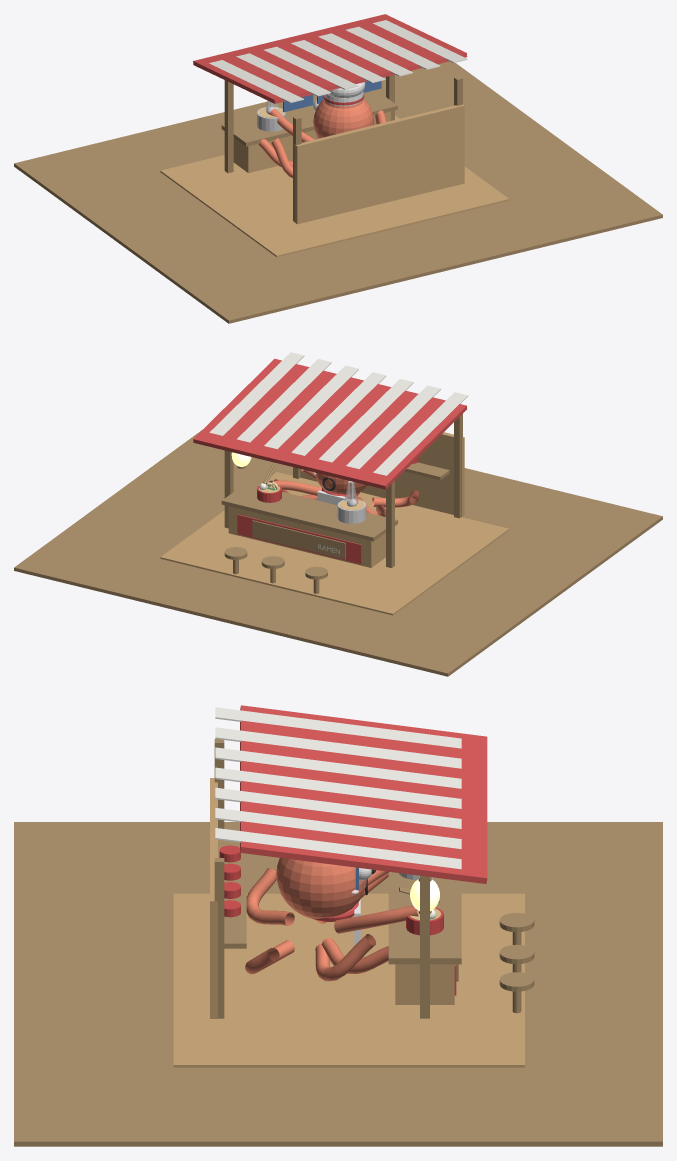
The model's file is octopus-ramen-shop.glb.
3 views of the same model, one above another, from view 1: azimuth 30°, elevation 25°; view 2: azimuth 150°, elevation 25°; view 3: azimuth 270°, elevation 25° (orthographic). The views are drawn at different scales.
Parts seen in each view (by area): view 1: Ground, BackWall, FloorMat, Roof, CounterTop, Head, Counter, PostL, Stripe2, Stripe3, Stripe5, Stripe0 (+3 smaller); view 2: Ground, FloorMat, Roof, CounterTop, BackWall, Counter, SignBoard, Stripe6, Stripe3, Stripe4, Stripe2, Stripe1 (+8 smaller); view 3: Ground, FloorMat, Roof, CounterTop, Head, Stripe5, Stripe6, Stripe3, Stripe4, Stripe2, Stripe0, Stripe1 (+10 smaller).
Boxes of the visible parts, x1=… form: Ground: x1=14, y1=61, x2=662, y2=323; BackWall: x1=294, y1=104, x2=464, y2=224; FloorMat: x1=160, y1=115, x2=509, y2=257; Roof: x1=193, y1=14, x2=467, y2=103; CounterTop: x1=221, y1=90, x2=397, y2=146; Head: x1=313, y1=99, x2=374, y2=138; Counter: x1=233, y1=111, x2=390, y2=172; PostL: x1=224, y1=80, x2=233, y2=173; Stripe2: x1=264, y1=46, x2=358, y2=89; Stripe3: x1=291, y1=40, x2=385, y2=82; Stripe5: x1=345, y1=26, x2=440, y2=69; Stripe0: x1=209, y1=60, x2=303, y2=102; Ground: x1=14, y1=429, x2=662, y2=676; FloorMat: x1=160, y1=472, x2=509, y2=615; Roof: x1=193, y1=358, x2=466, y2=489; CounterTop: x1=221, y1=483, x2=397, y2=541; BackWall: x1=300, y1=432, x2=464, y2=516; Counter: x1=228, y1=506, x2=385, y2=567; SignBoard: x1=252, y1=520, x2=345, y2=559; Stripe6: x1=209, y1=352, x2=304, y2=435; Stripe3: x1=291, y1=372, x2=386, y2=455; Stripe4: x1=264, y1=365, x2=358, y2=449; Stripe2: x1=319, y1=379, x2=413, y2=462; Stripe1: x1=346, y1=385, x2=440, y2=469; Ground: x1=14, y1=822, x2=662, y2=1146; FloorMat: x1=173, y1=893, x2=524, y2=1067; Roof: x1=240, y1=705, x2=487, y2=883; CounterTop: x1=388, y1=872, x2=461, y2=964; Head: x1=276, y1=858, x2=366, y2=918; Stripe5: x1=215, y1=807, x2=461, y2=849; Stripe6: x1=215, y1=828, x2=461, y2=869; Stripe3: x1=215, y1=767, x2=461, y2=808; Stripe4: x1=215, y1=787, x2=461, y2=828; Stripe2: x1=215, y1=747, x2=461, y2=788; Stripe0: x1=215, y1=707, x2=461, y2=748; Stripe1: x1=215, y1=727, x2=461, y2=768.
Bounding box in the file's own units: 14 × 4.36 × 12.
